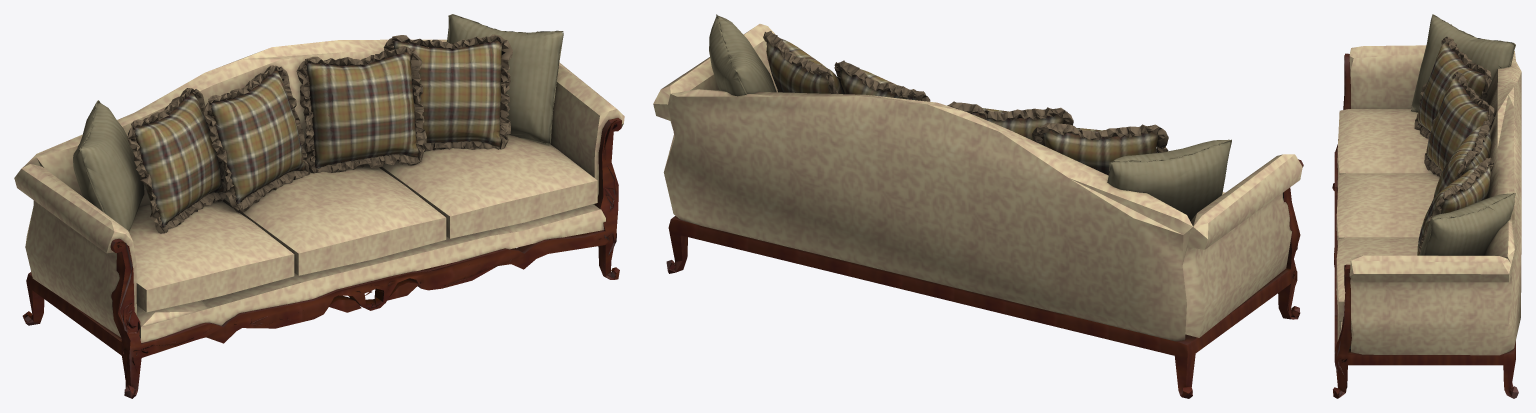
The model's file is raw_model.obj.
3 views of the same model, side by side, from view 1: azimuth 30°, elevation 25°; view 2: azimuth 150°, elevation 25°; view 3: azimuth 270°, elevation 25° (orthographic). The views are drawn at different scales.
Parts seen in each view (by area): view 1: solid_004, solid_002, solid_001, solid_003, solid_005; view 2: solid_004, solid_001, solid_003, solid_002, solid_005; view 3: solid_004, solid_002, solid_003, solid_001, solid_005.
Part boxes in pixels (left/top/right/bottom): solid_004: left=14, top=39, right=624, bottom=342; solid_002: left=135, top=40, right=502, bottom=227; solid_001: left=22, top=118, right=621, bottom=398; solid_003: left=73, top=14, right=563, bottom=231; solid_005: left=127, top=34, right=512, bottom=233; solid_004: left=653, top=24, right=1302, bottom=341; solid_001: left=666, top=159, right=1303, bottom=398; solid_003: left=709, top=14, right=1231, bottom=220; solid_002: left=766, top=39, right=1158, bottom=175; solid_005: left=763, top=31, right=1168, bottom=152; solid_004: left=1336, top=45, right=1521, bottom=355; solid_002: left=1417, top=41, right=1491, bottom=255; solid_003: left=1411, top=14, right=1515, bottom=255; solid_001: left=1332, top=53, right=1518, bottom=398; solid_005: left=1414, top=36, right=1494, bottom=252.
Bounding box in the file's own units: 2.08 × 0.8313 × 0.7539.
1 material, 1 textured.
